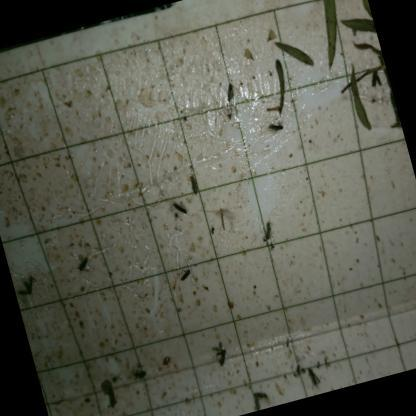prays_oleae: (180, 156, 212, 194), (125, 356, 150, 387), (207, 336, 230, 368), (302, 358, 323, 391), (168, 196, 192, 224), (14, 272, 38, 296), (74, 252, 94, 277), (175, 264, 195, 286), (258, 217, 277, 240), (268, 114, 286, 138), (252, 382, 270, 401), (250, 392, 262, 411)
